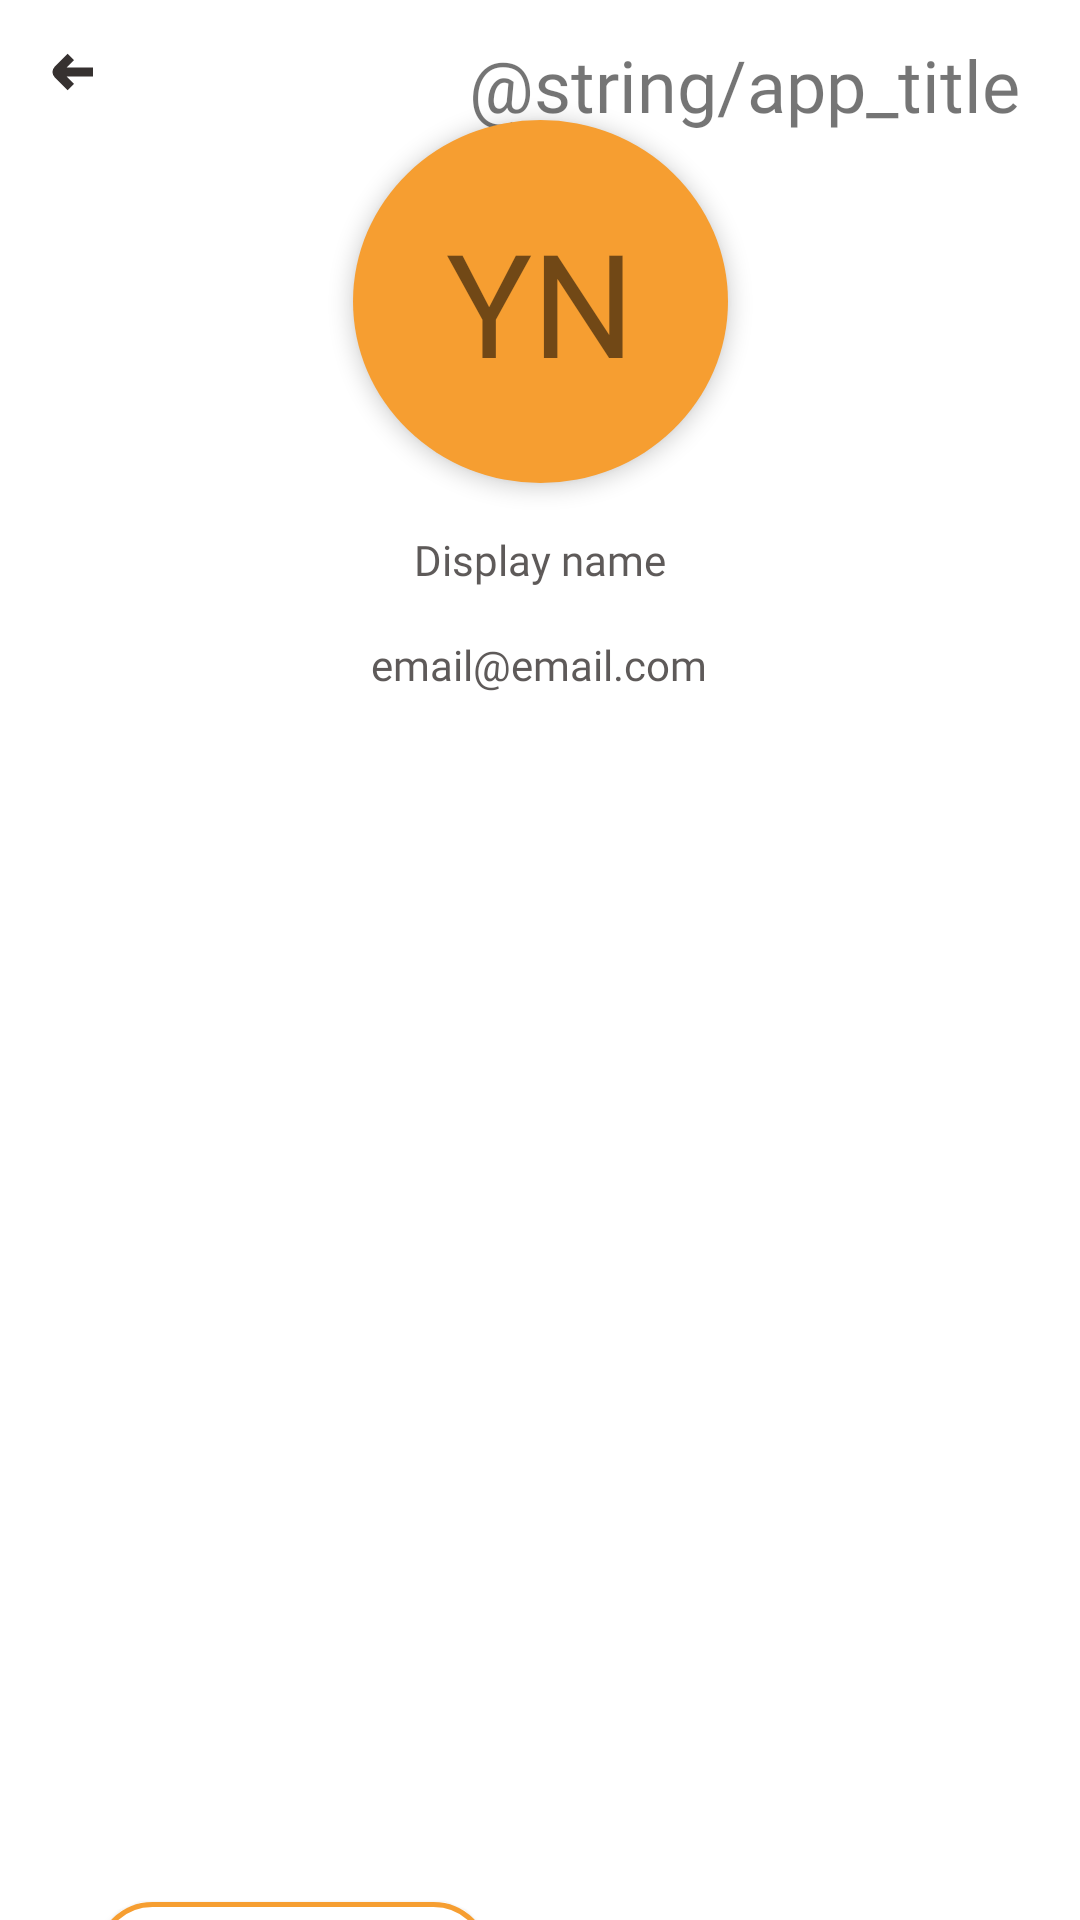

Named icons in this screenshot (1080×1920) and their centers, [x,y]:
back icon: [72,72]
